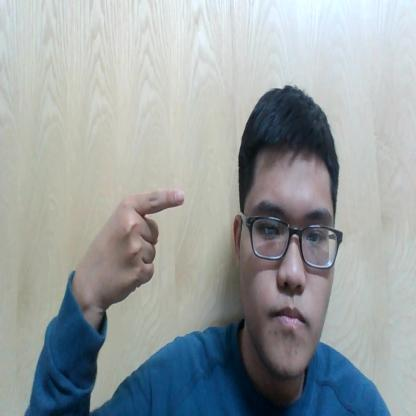left: (74, 181, 188, 304)
